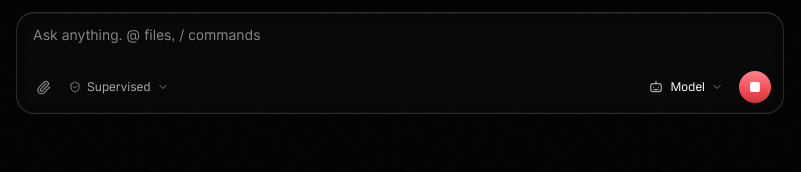
Test: composer › picks an @ mention with Tab
Step 1. Type "look @mai" into the text box → (400, 39), box top-left (17, 13), bottom-right (783, 65)
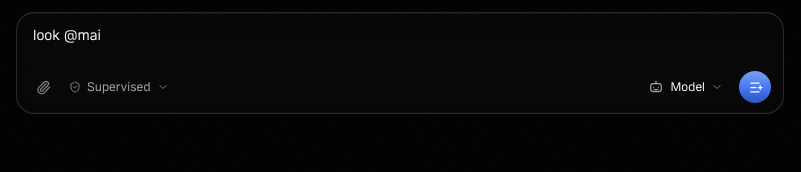
Step 2. Press Tab in the text box, box top-left (17, 13), bottom-right (783, 65)
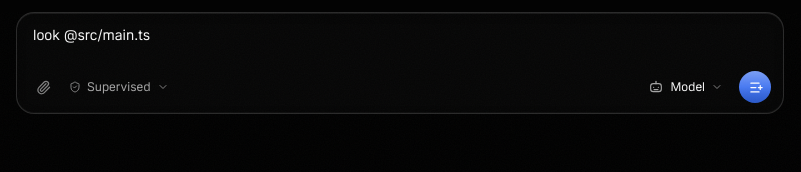
expect the text box holds "look @src/main.ts ": met, box top-left (17, 13), bottom-right (783, 65)
